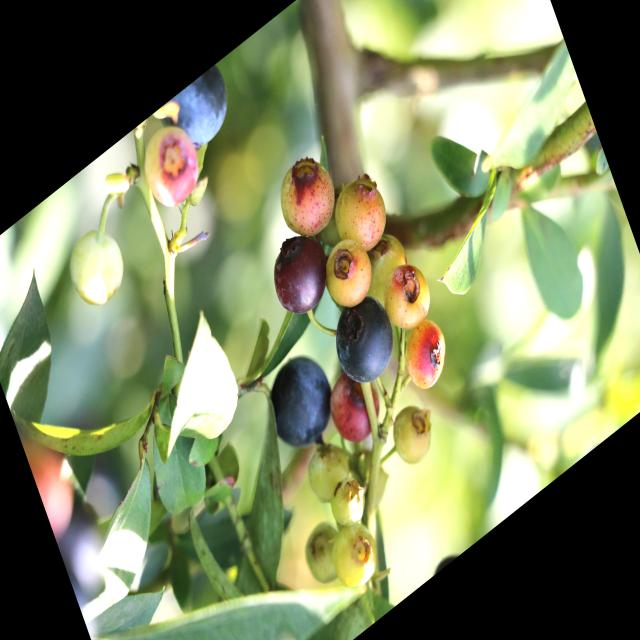blueberry: (258, 340, 342, 466), (324, 278, 406, 400), (159, 57, 245, 169)
blueberry-halfripe: (264, 223, 334, 325), (326, 361, 388, 455), (399, 312, 454, 394)
blueberry-unripe: (270, 145, 344, 250), (64, 214, 134, 318), (137, 115, 206, 218), (329, 172, 390, 262), (297, 429, 358, 515), (318, 230, 377, 318), (377, 254, 434, 342), (326, 513, 384, 598), (384, 395, 440, 476), (298, 513, 351, 596), (327, 475, 369, 536)
